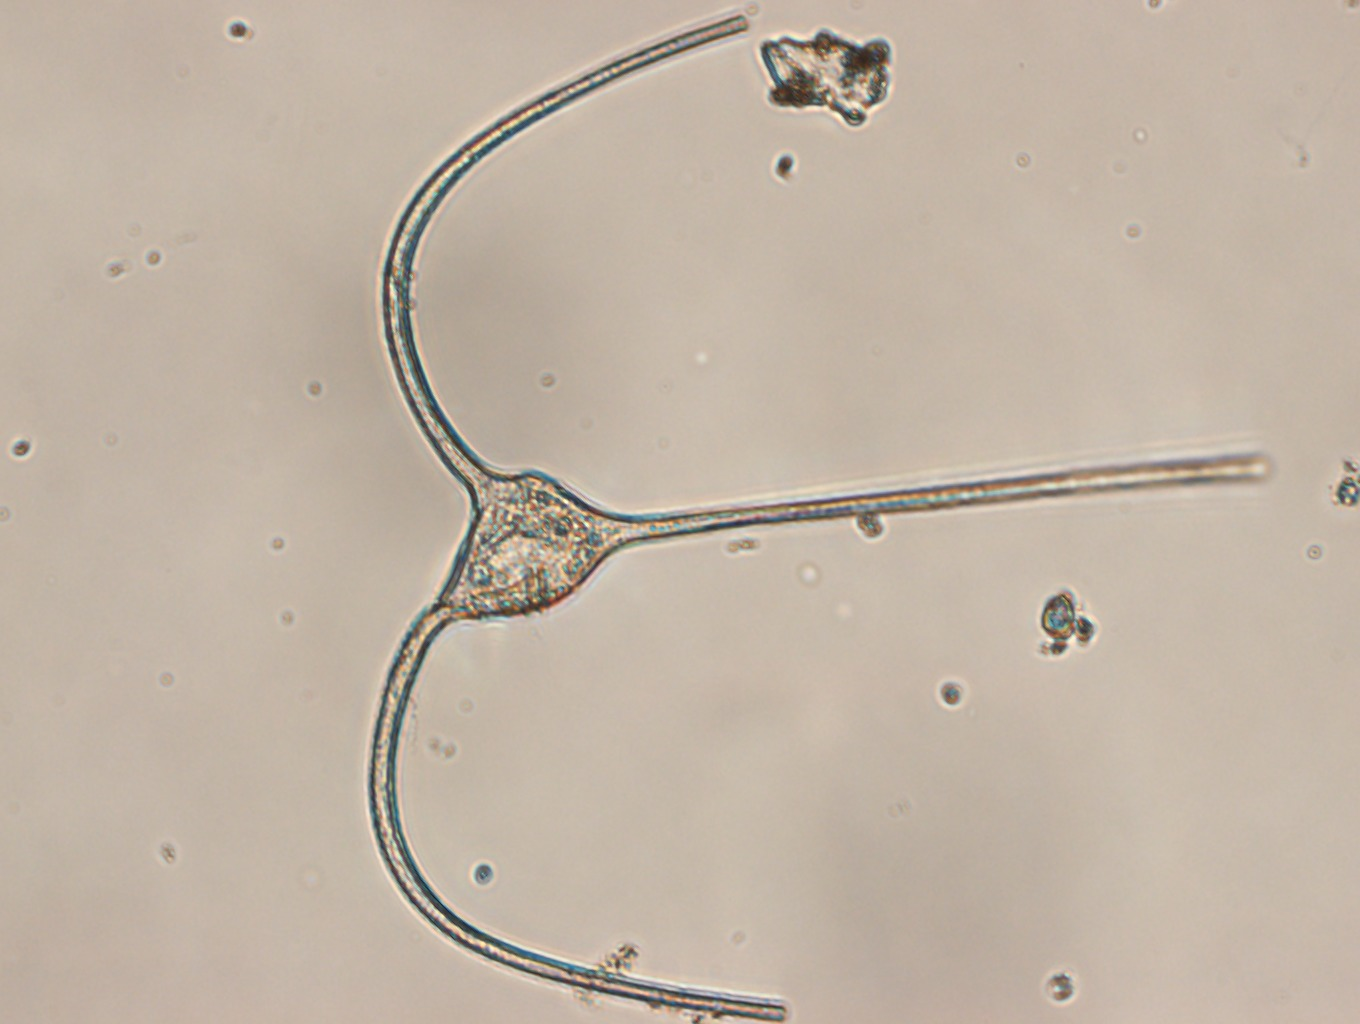ceratium trichoceros: (366, 9, 1272, 1023)
